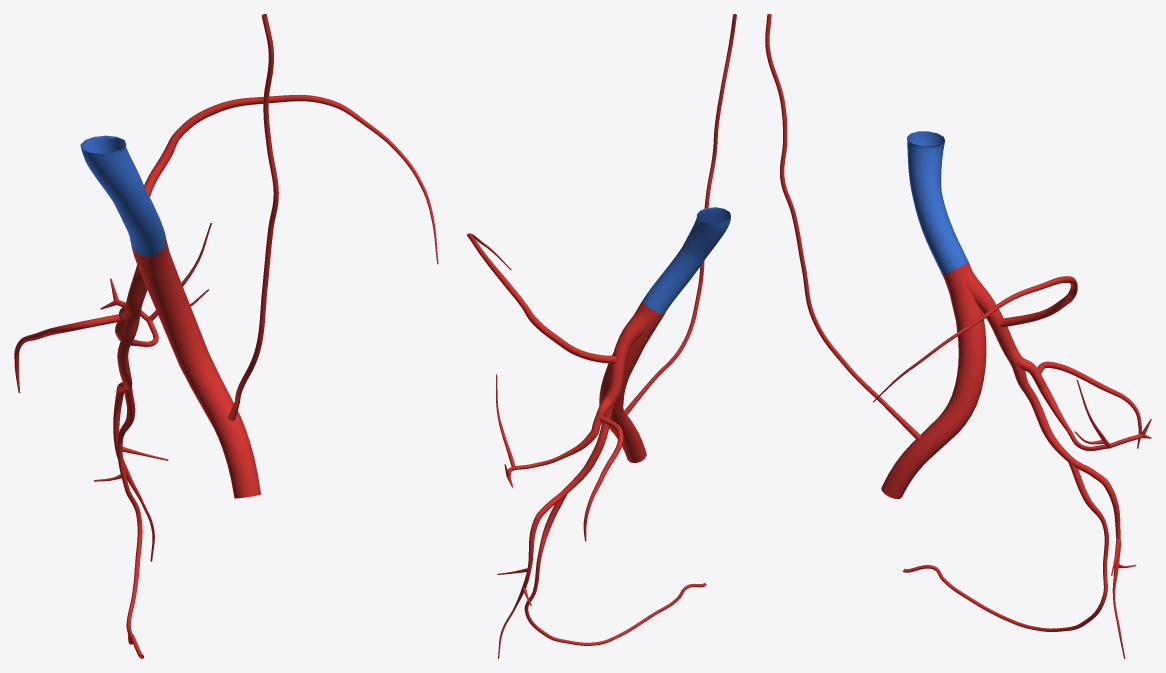
The model's file is circulatorio-common-iliac-vein-l.glb.
3 renders of one model, left to right at view 1: azimuth 30°, elevation 25°; view 2: azimuth 150°, elevation 25°; view 3: azimuth 270°, elevation 25°, orthographic. The views are drawn at different scales.
Parts seen in each view (by area): view 1: External iliac vein.l, Common iliac vein.l, Iliolumbar vein.l, Inferior epigastric vein.l, Inferior gluteal veins.l, Internal pudendal vein.l, Superior gluteal veins.l, Lateral sacral veins.l, Internal iliac vein.l; view 2: Common iliac vein.l, External iliac vein.l, Inferior epigastric vein.l, Inferior gluteal veins.l, Iliolumbar vein.l, Internal pudendal vein.l, Internal iliac vein.l, Superior gluteal veins.l, Lateral sacral veins.l; view 3: External iliac vein.l, Common iliac vein.l, Inferior epigastric vein.l, Inferior gluteal veins.l, Iliolumbar vein.l, Internal pudendal vein.l, Superior gluteal veins.l, Internal iliac vein.l, Lateral sacral veins.l.
Boxes of the visible parts, x1,y1,x2,y2 form: External iliac vein.l: [131, 240, 260, 498]; Common iliac vein.l: [80, 135, 166, 256]; Iliolumbar vein.l: [144, 94, 438, 264]; Inferior epigastric vein.l: [228, 14, 278, 420]; Inferior gluteal veins.l: [94, 309, 168, 561]; Internal pudendal vein.l: [117, 386, 143, 658]; Superior gluteal veins.l: [100, 223, 211, 346]; Lateral sacral veins.l: [14, 314, 120, 393]; Internal iliac vein.l: [125, 241, 166, 314]; Common iliac vein.l: [642, 207, 730, 314]; External iliac vein.l: [599, 302, 664, 462]; Inferior epigastric vein.l: [624, 14, 736, 415]; Inferior gluteal veins.l: [497, 392, 617, 658]; Iliolumbar vein.l: [467, 233, 616, 363]; Internal pudendal vein.l: [524, 494, 706, 645]; Internal iliac vein.l: [607, 302, 663, 397]; Superior gluteal veins.l: [496, 374, 616, 487]; Lateral sacral veins.l: [583, 416, 623, 541]; External iliac vein.l: [881, 263, 986, 498]; Common iliac vein.l: [907, 131, 968, 274]; Inferior epigastric vein.l: [765, 14, 920, 439]; Inferior gluteal veins.l: [1008, 352, 1136, 658]; Iliolumbar vein.l: [873, 276, 1077, 402]; Internal pudendal vein.l: [903, 461, 1108, 631]; Superior gluteal veins.l: [1007, 352, 1151, 450]; Internal iliac vein.l: [943, 262, 1018, 358]; Lateral sacral veins.l: [1037, 361, 1141, 448].
Bounding box in the file's own units: 0.142 × 0.2949 × 0.1705.
